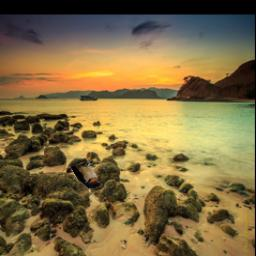Swallow: (69, 161, 103, 189)
